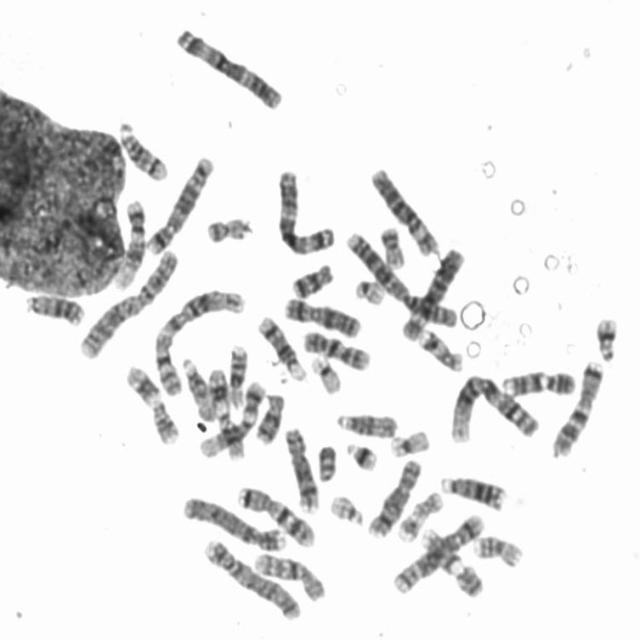A1: (147, 281, 248, 399), (444, 366, 542, 444)
A2: (340, 223, 461, 329), (73, 241, 181, 359)
A3: (169, 19, 286, 111), (271, 161, 338, 255)
B4: (198, 531, 304, 622), (178, 488, 288, 551)
B5: (387, 505, 487, 596), (141, 148, 216, 256)
C10: (248, 544, 328, 604), (298, 323, 372, 372)
C11: (120, 357, 181, 446), (203, 360, 247, 460)
C12: (193, 374, 268, 459), (109, 192, 149, 291)
C6: (365, 159, 442, 257), (396, 242, 467, 342)
C7: (547, 354, 606, 459), (231, 478, 318, 549)
C8: (361, 451, 424, 540), (278, 418, 321, 514)
C9: (416, 522, 486, 598), (496, 362, 578, 397)
D13: (434, 466, 508, 512), (19, 286, 86, 328)
D14: (112, 114, 171, 182), (252, 308, 306, 382)
D15: (176, 350, 217, 422), (330, 405, 400, 438)
E16: (468, 527, 524, 570), (222, 336, 250, 410)
E17: (391, 483, 445, 543), (412, 321, 465, 373)
E18: (286, 255, 336, 300), (250, 386, 286, 444)
F19: (305, 348, 344, 395), (383, 422, 432, 459)
F20: (201, 209, 254, 244), (374, 219, 408, 270)
G21: (590, 308, 620, 362), (341, 434, 380, 472)
G22: (324, 487, 366, 526), (349, 271, 388, 305)
X: (278, 289, 364, 339)
Y: (312, 437, 339, 482)
